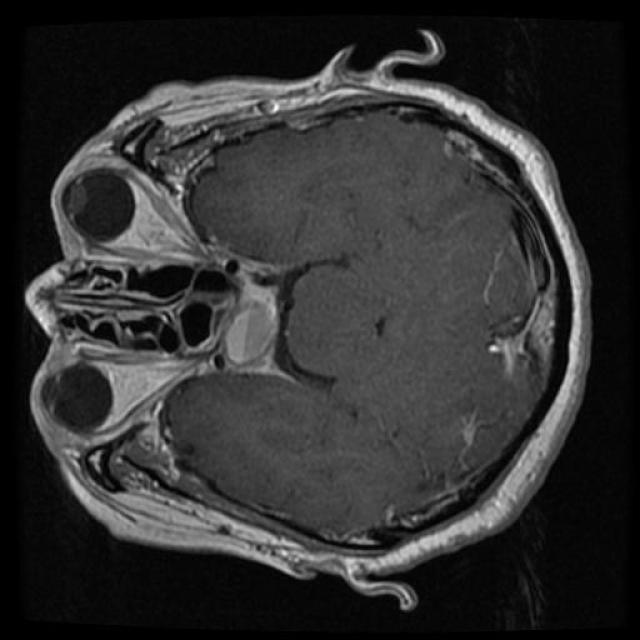Pituitary: (209, 257, 292, 376)
